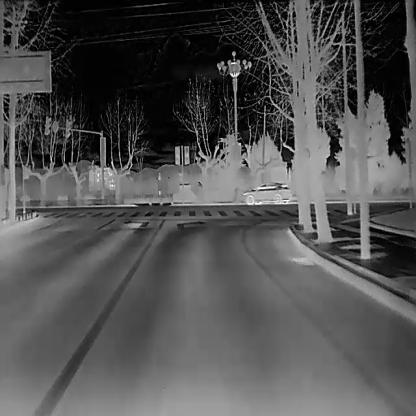car: (242, 180, 290, 206)
